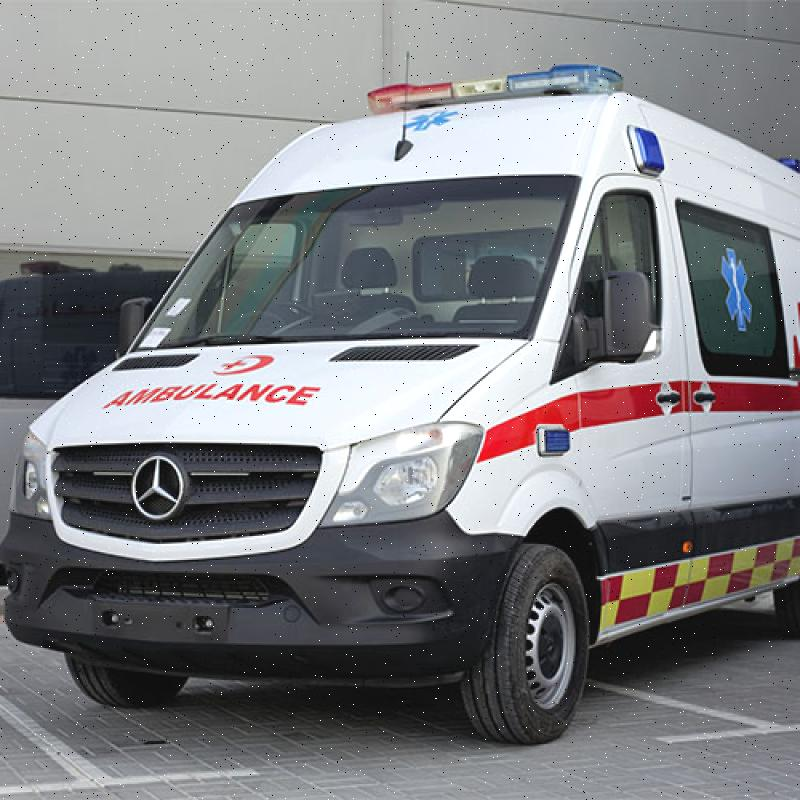AmbulanceSiren: (344, 44, 644, 114)
ambulance: (0, 0, 800, 782)
